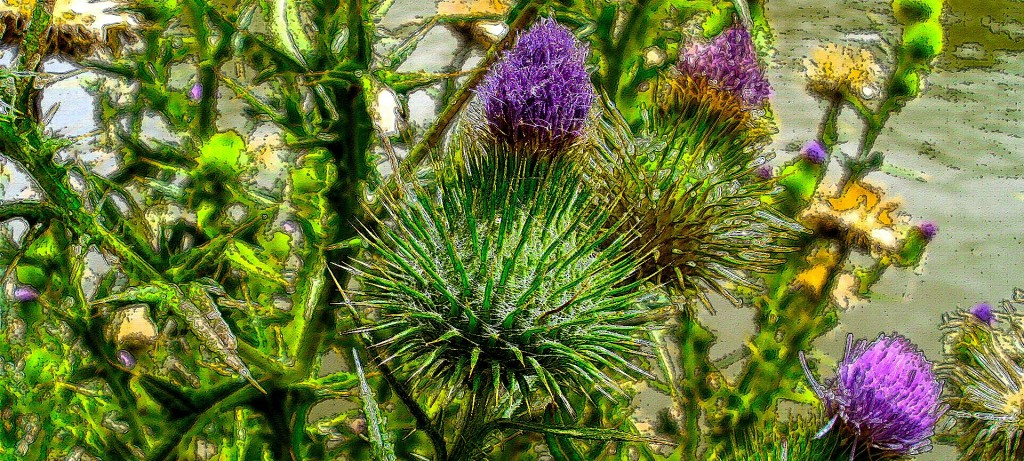thistle: (376, 27, 668, 393), (638, 24, 811, 323), (790, 325, 945, 461), (890, 211, 939, 281), (785, 143, 829, 214)
